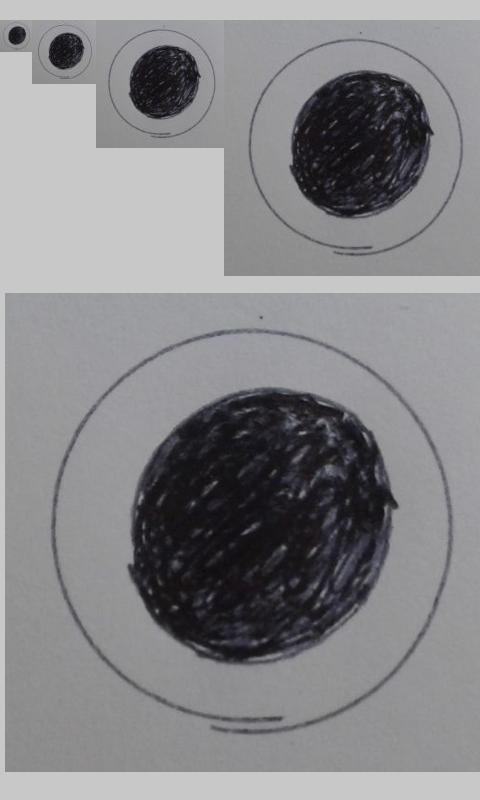radio_button: (48, 325, 457, 737), (247, 36, 465, 258), (107, 27, 218, 140), (36, 22, 94, 81), (2, 21, 31, 50)
